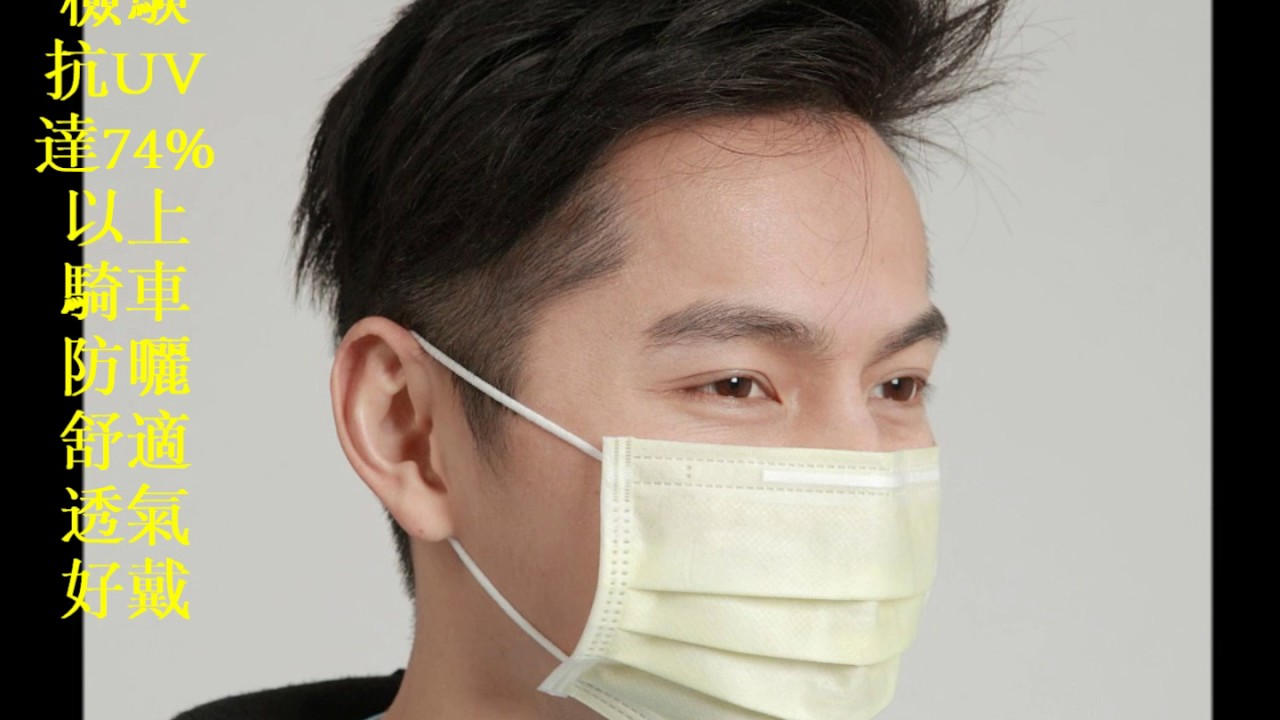mask: (551, 427, 956, 720)
